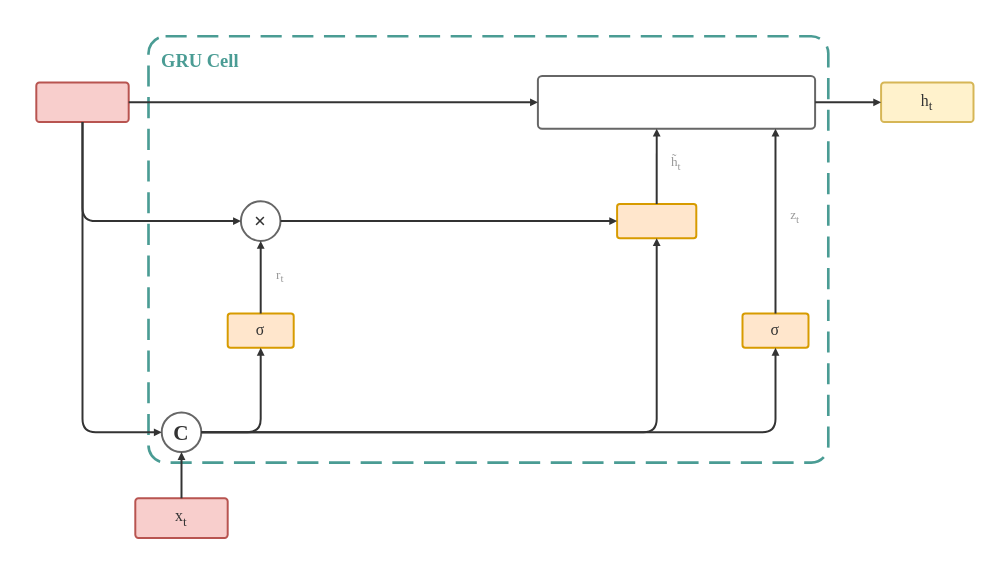
Image size: 1008x573. Some labels were removed from this diagram. Each missing label, with the centre of its shape:
"h t = (1 − z t ) ⊙ h t-1 + z t ⊙ h̃ t" belongs at point (675, 101).
"h t-1" belongs at point (82, 101).
"tanh" belongs at point (656, 220).
